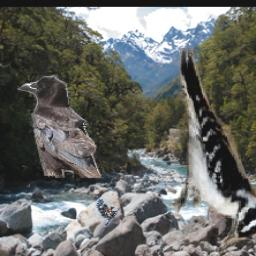Crow: (18, 74, 103, 178)
Woodpecker: (168, 48, 256, 243), (97, 199, 119, 228)
